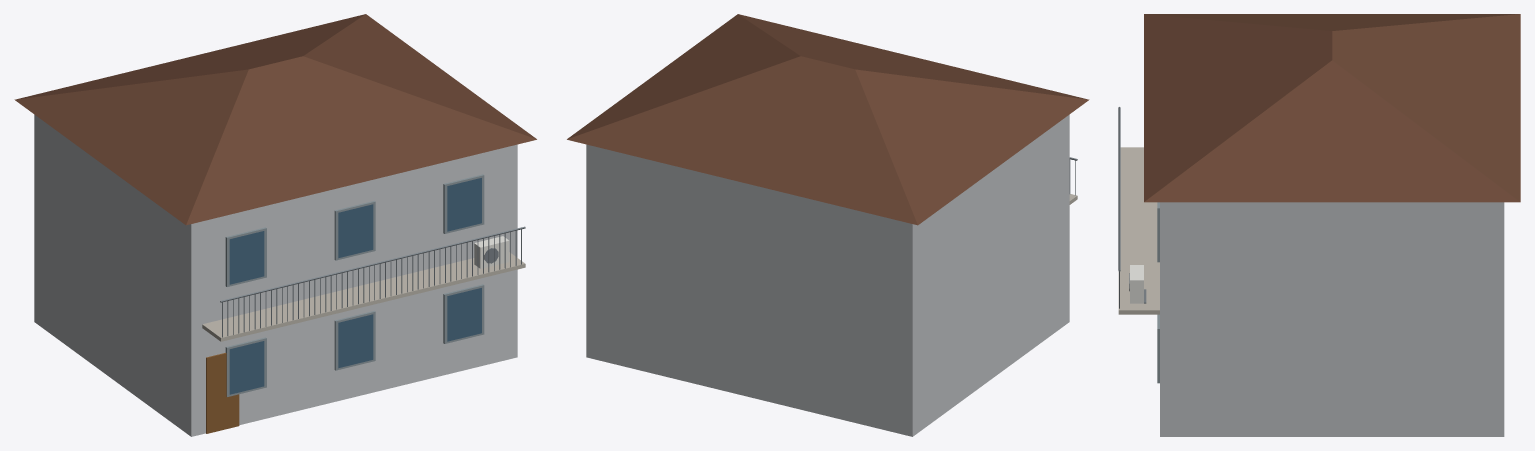
Rendered from House_B.fbx.
3 renders of one model, left to right at view 1: azimuth 30°, elevation 25°; view 2: azimuth 150°, elevation 25°; view 3: azimuth 270°, elevation 25°, orthographic. The views are drawn at different scales.
Parts seen in each view (by area): view 1: House_B; view 2: House_B; view 3: House_B.
Boxes of the visible parts, box(x1,y1,x2,y2) form: House_B: box(14, 14, 536, 436); House_B: box(567, 14, 1089, 436); House_B: box(1118, 14, 1520, 436).
Size of the model in its own units: 9.7 by 7.3 by 8.75.
